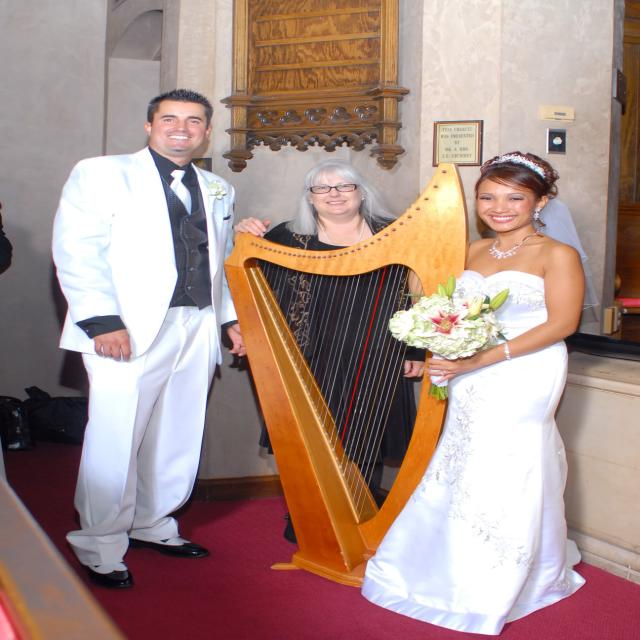harp: (212, 161, 494, 590)
